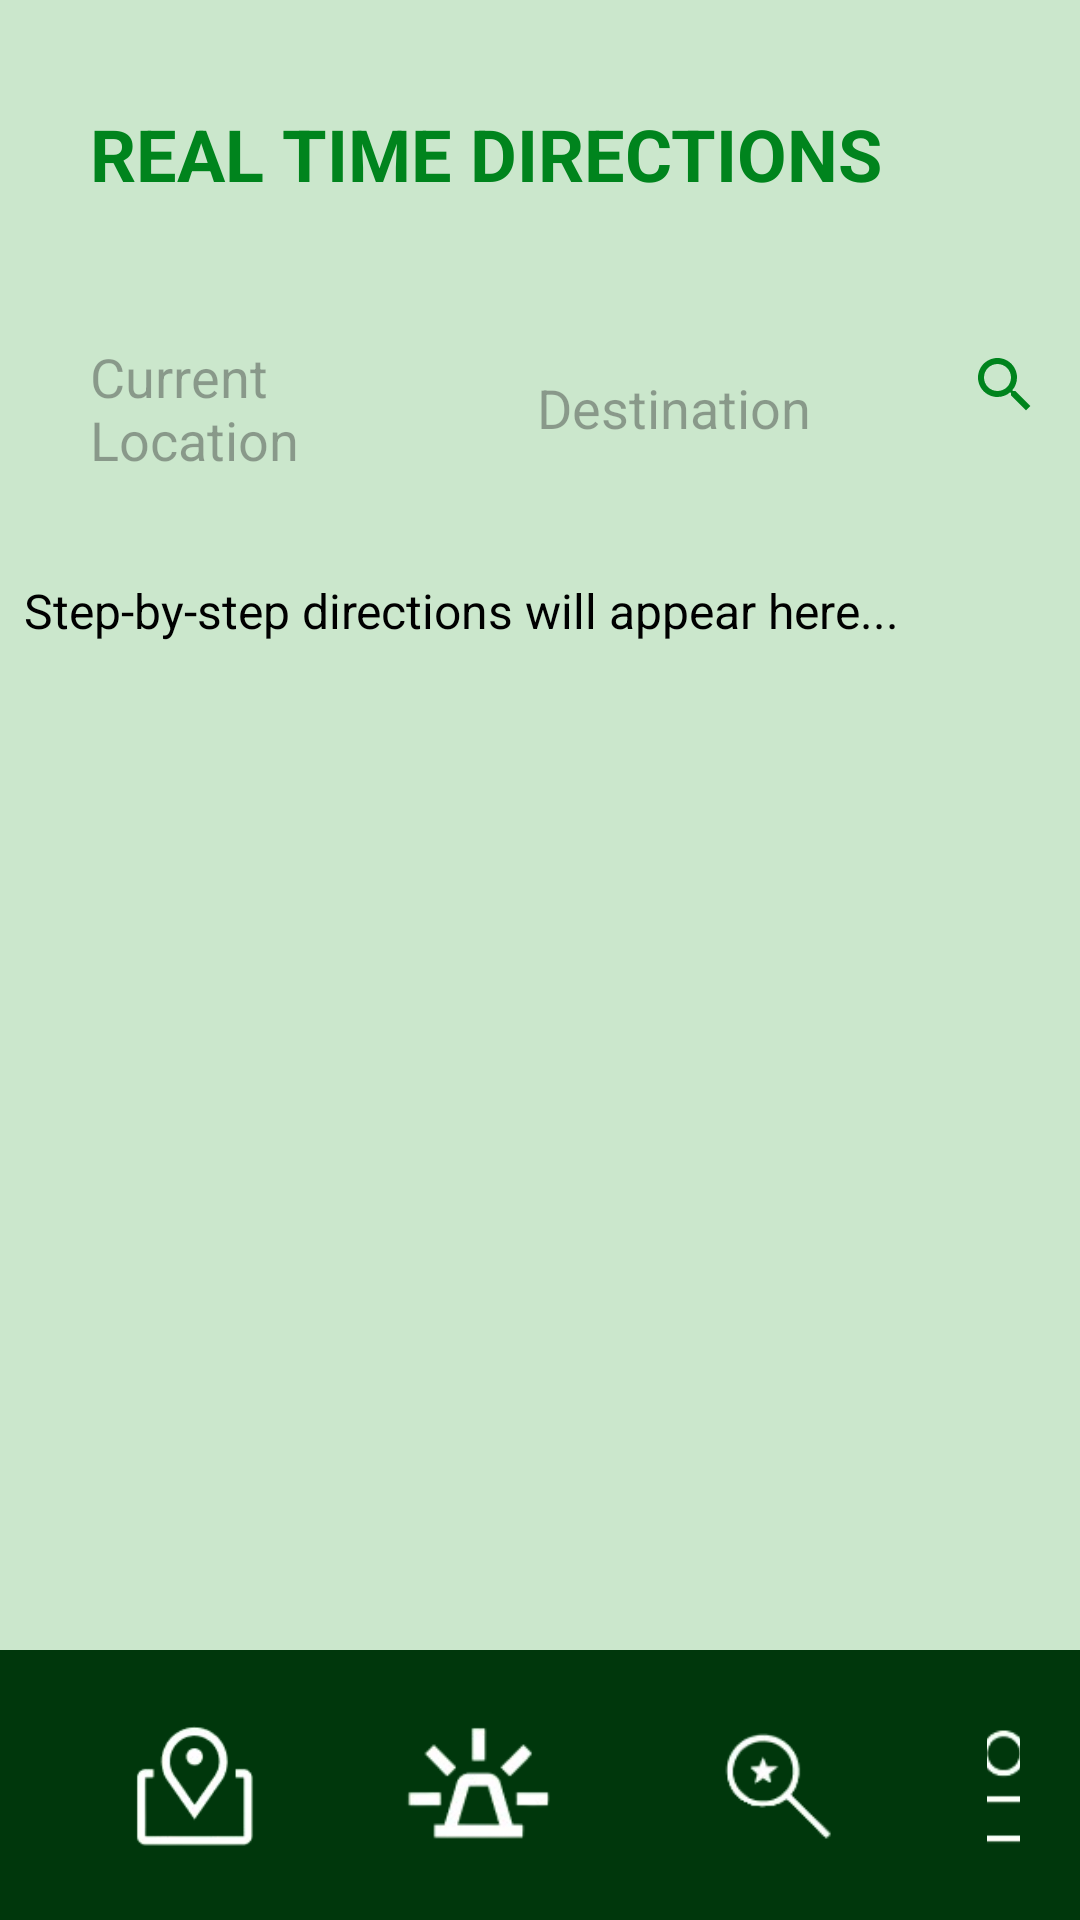

Icon click points for this 1080px x 1920px phone screenshot, format (x,y):
Campus Map: (195,1786)
Emergency: (479,1783)
Saved: (778,1786)
Search Directions: (1004,384)
